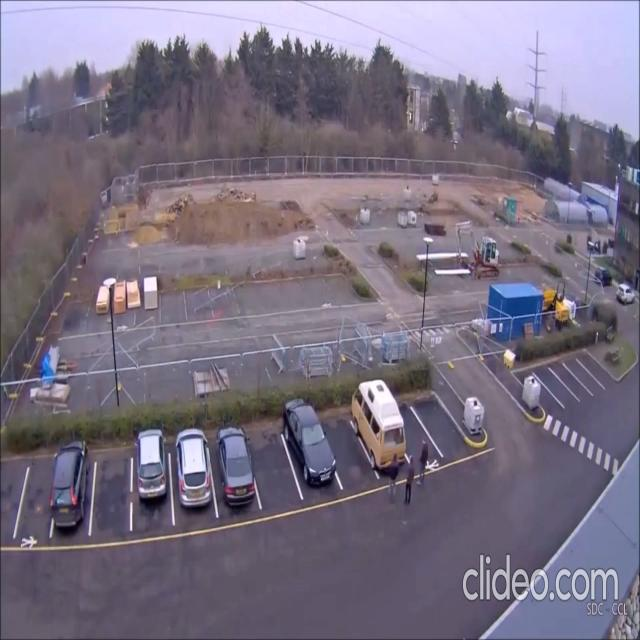empty: (244, 425, 304, 518), (322, 416, 379, 495), (11, 457, 58, 551), (413, 398, 473, 465), (88, 454, 132, 544), (392, 402, 446, 473), (0, 464, 29, 547), (518, 371, 561, 412), (537, 365, 578, 406), (552, 362, 590, 398), (567, 358, 602, 395), (579, 356, 614, 389)
occupied: (359, 380, 410, 470), (286, 398, 334, 488), (217, 422, 256, 520), (180, 428, 209, 510), (58, 442, 85, 518), (136, 440, 164, 508)
